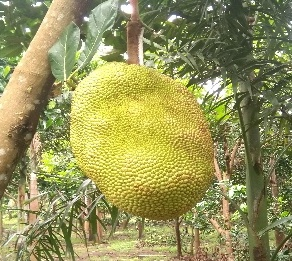Mit: (71, 62, 214, 223)
